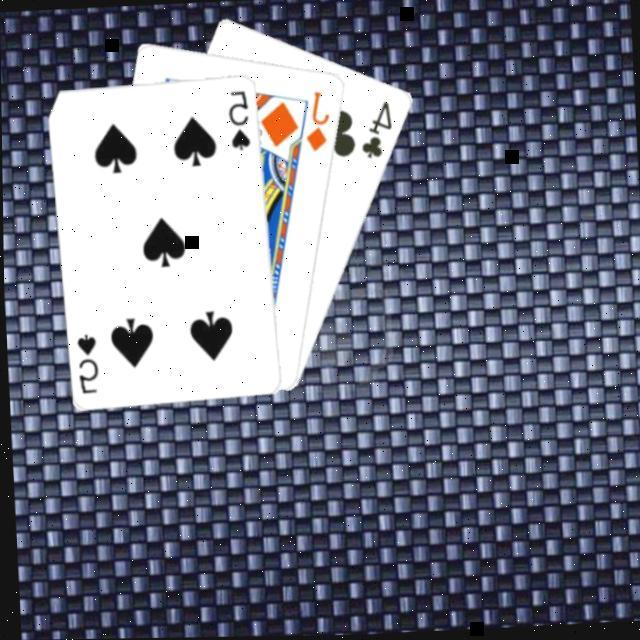4C: (354, 100, 394, 162)
5S: (70, 330, 100, 398), (222, 88, 251, 155)
JD: (298, 90, 332, 156)
